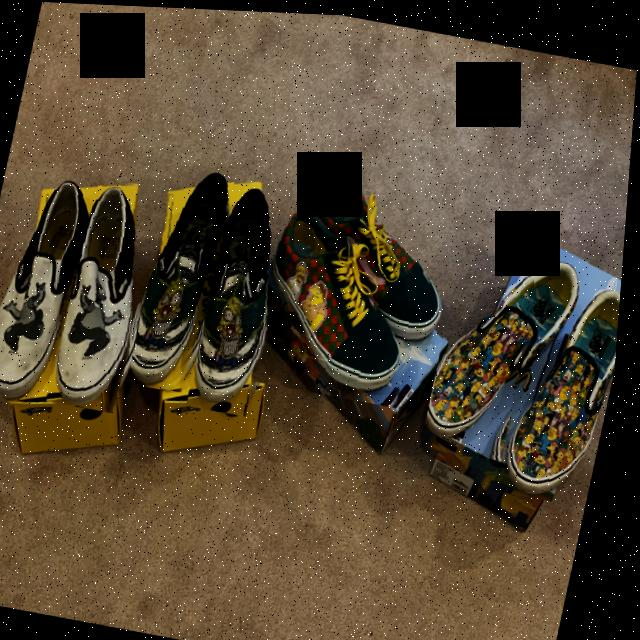shoe: (251, 196, 449, 407), (425, 225, 596, 467), (289, 160, 484, 348), (496, 260, 626, 502), (51, 174, 179, 416), (191, 174, 314, 418), (132, 155, 249, 396), (0, 160, 104, 412)
